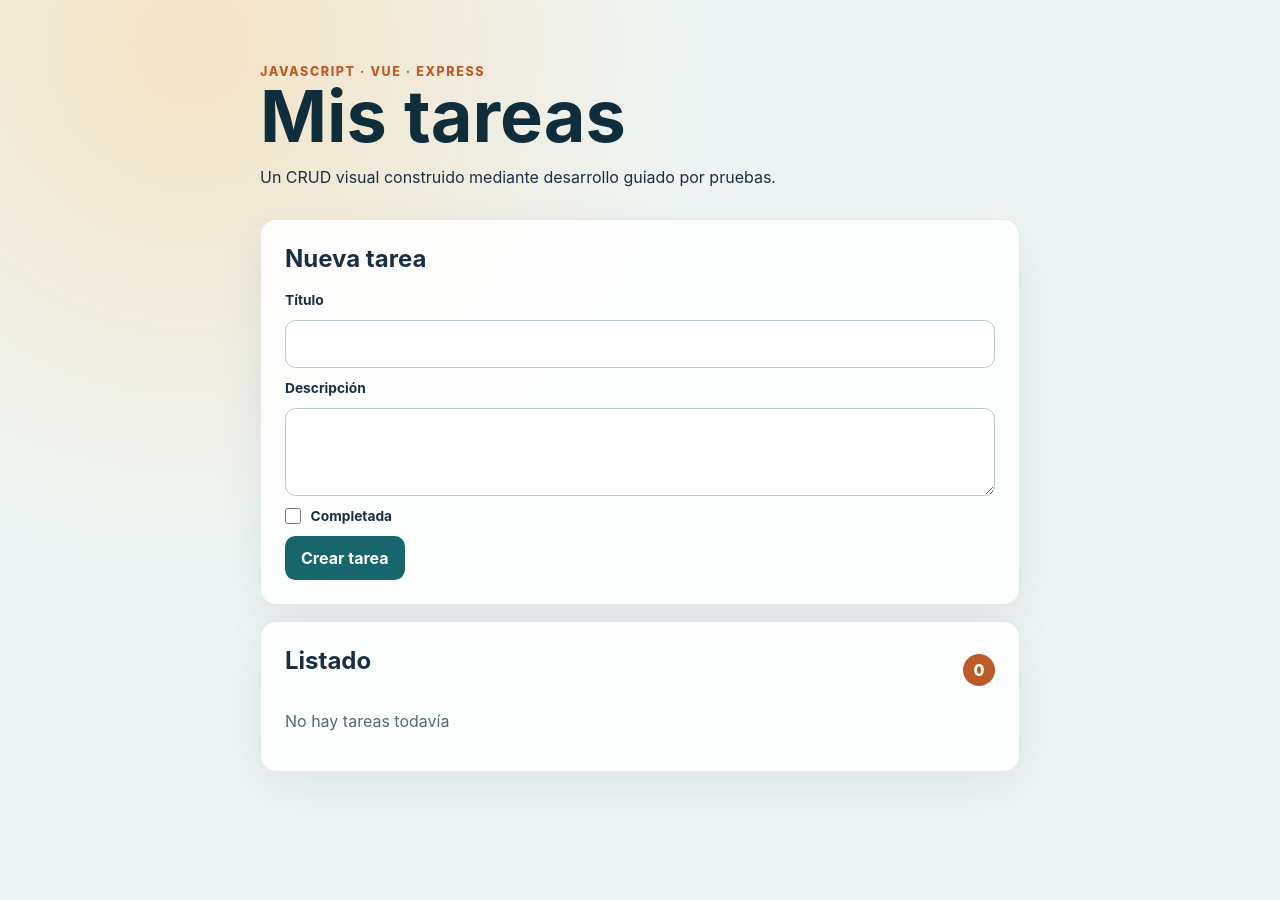
Tasks application › shows API errors to the user
Type "Tarea válida" into the field named "title".
click(640, 344); type("Tarea válida")  # box x1=285 y1=320 x2=995 y2=368
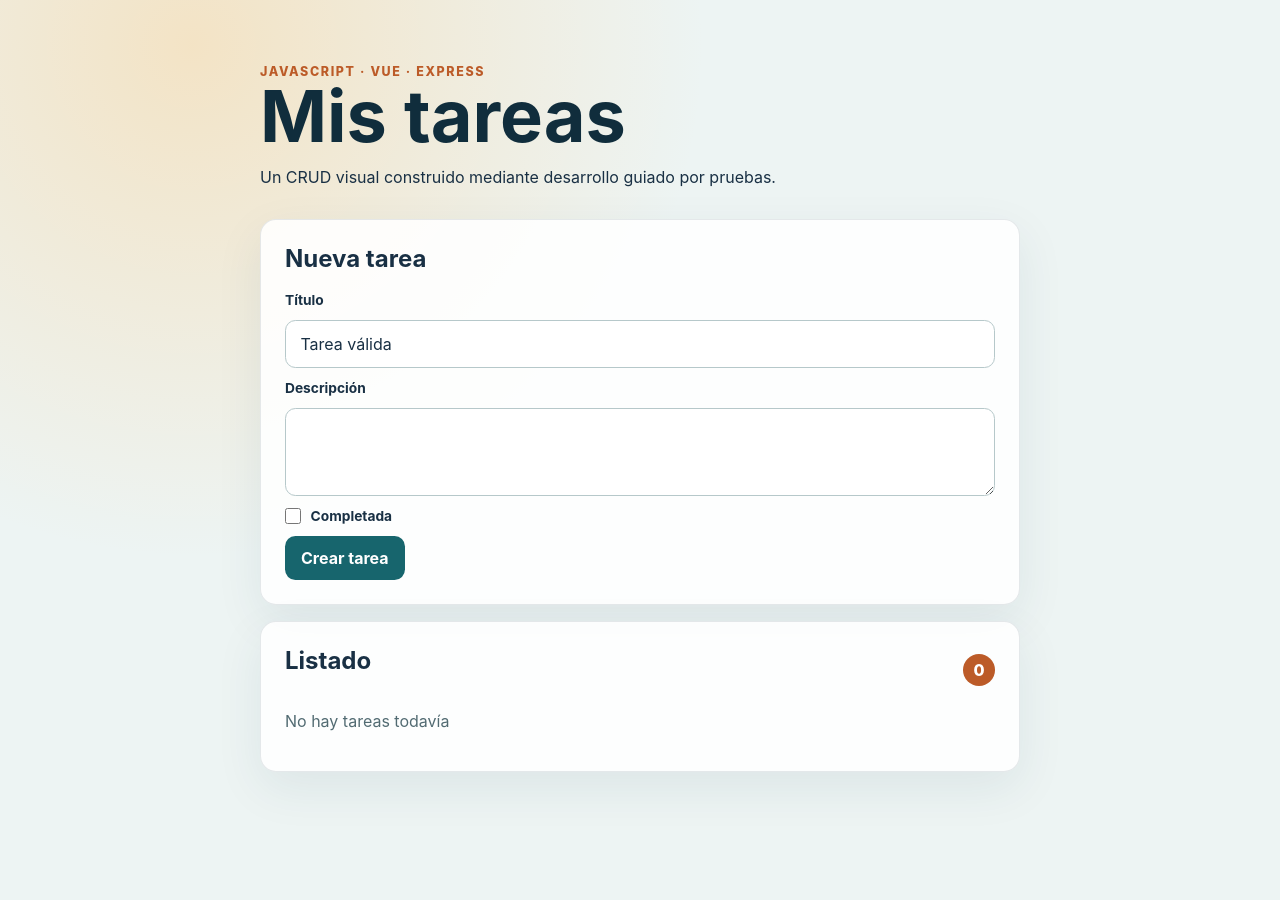
Submit the form, box x1=285 y1=292 x2=995 y2=580
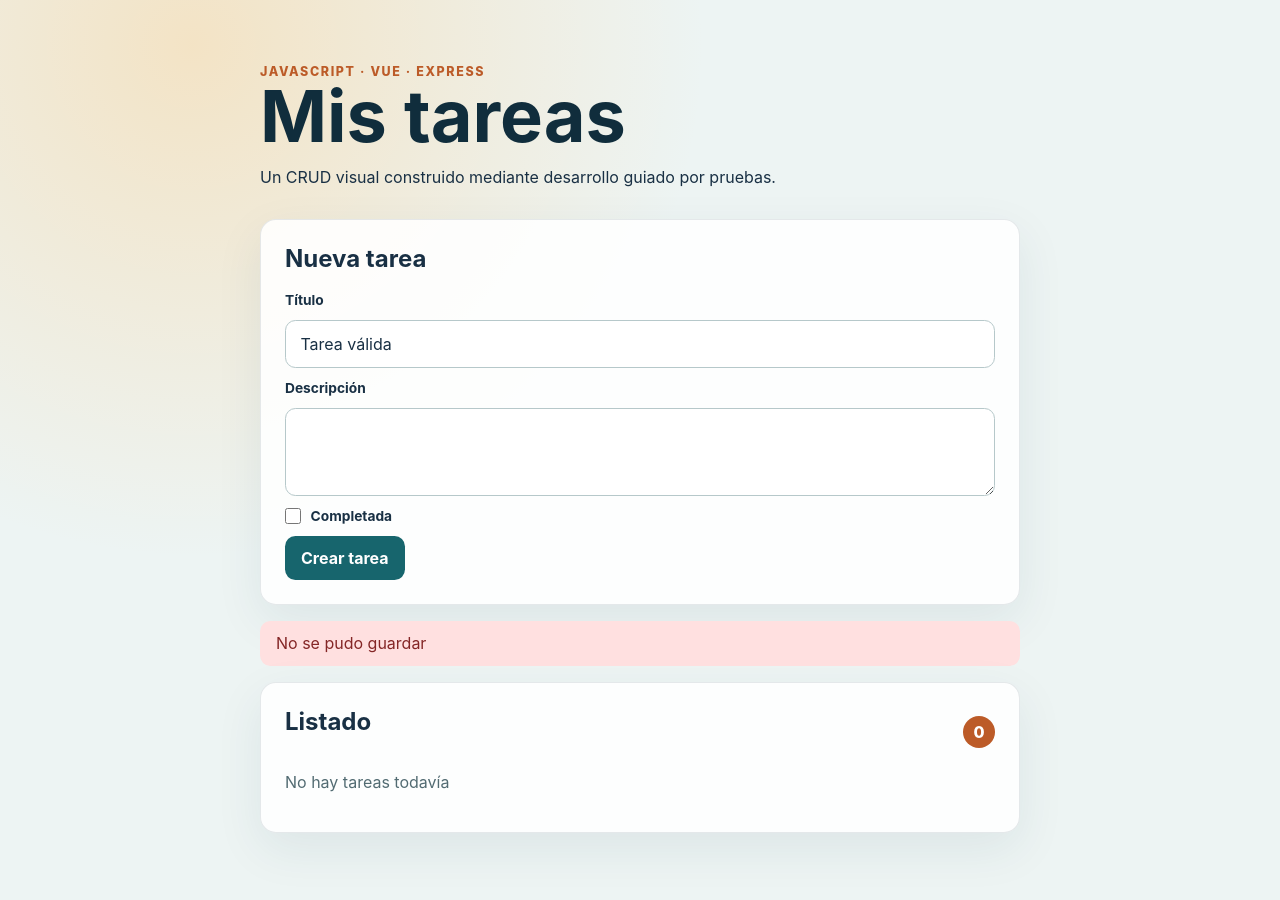
Expected: the message "No se pudo guardar" is shown, x1=260 y1=621 x2=1020 y2=666
